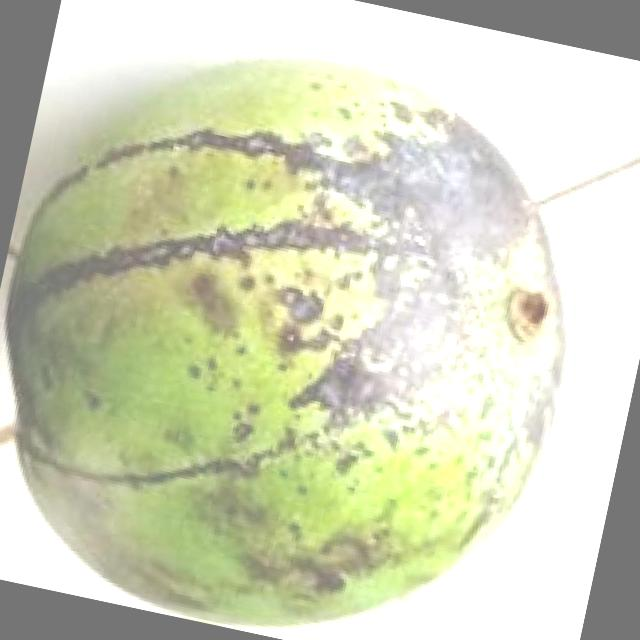Mango: (0, 13, 620, 640)
